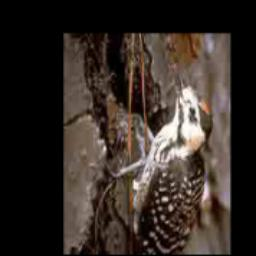Woodpecker: (113, 53, 212, 251)
